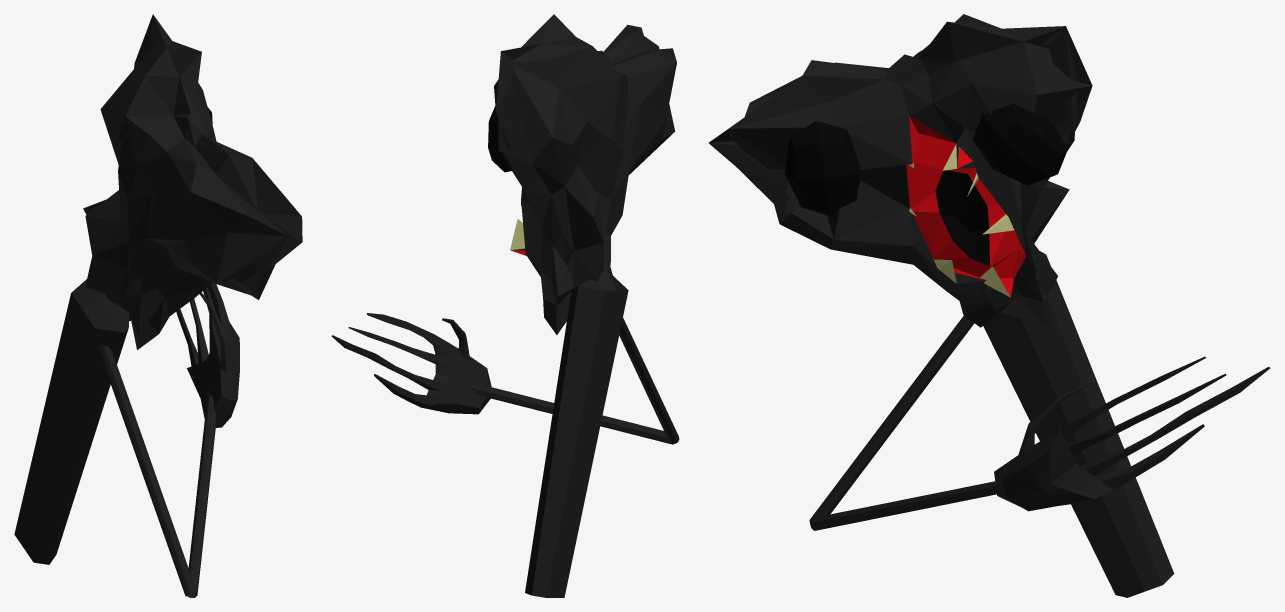
The model's file is mob_terror.fbx.
The picture shows the model from 3 angles, left to right: view 1: azimuth 30°, elevation 25°; view 2: azimuth 150°, elevation 25°; view 3: azimuth 270°, elevation 25°; orthographic projection. The views are drawn at different scales.
Visible parts, largest first — view 1: Cube.002, Cube.003, generator1.002, hand_gene.001; view 2: Cube.002, Cube.003, hand_gene.001, generator1.002; view 3: Cube.002, Cube.003, hand_gene.001, generator1.002.
Boxes of the visible parts, bbox=[...] form: Cube.002: bbox=[83, 14, 302, 349]; Cube.003: bbox=[14, 279, 128, 564]; generator1.002: bbox=[99, 345, 216, 597]; hand_gene.001: bbox=[176, 283, 239, 427]; Cube.002: bbox=[488, 14, 676, 334]; Cube.003: bbox=[525, 269, 628, 597]; hand_gene.001: bbox=[331, 313, 491, 414]; generator1.002: bbox=[469, 318, 679, 444]; Cube.002: bbox=[709, 14, 1092, 328]; Cube.003: bbox=[983, 251, 1174, 597]; hand_gene.001: bbox=[994, 356, 1270, 511]; generator1.002: bbox=[809, 315, 996, 530].
Size of the model in its own units: 367 by 1017 by 842.
